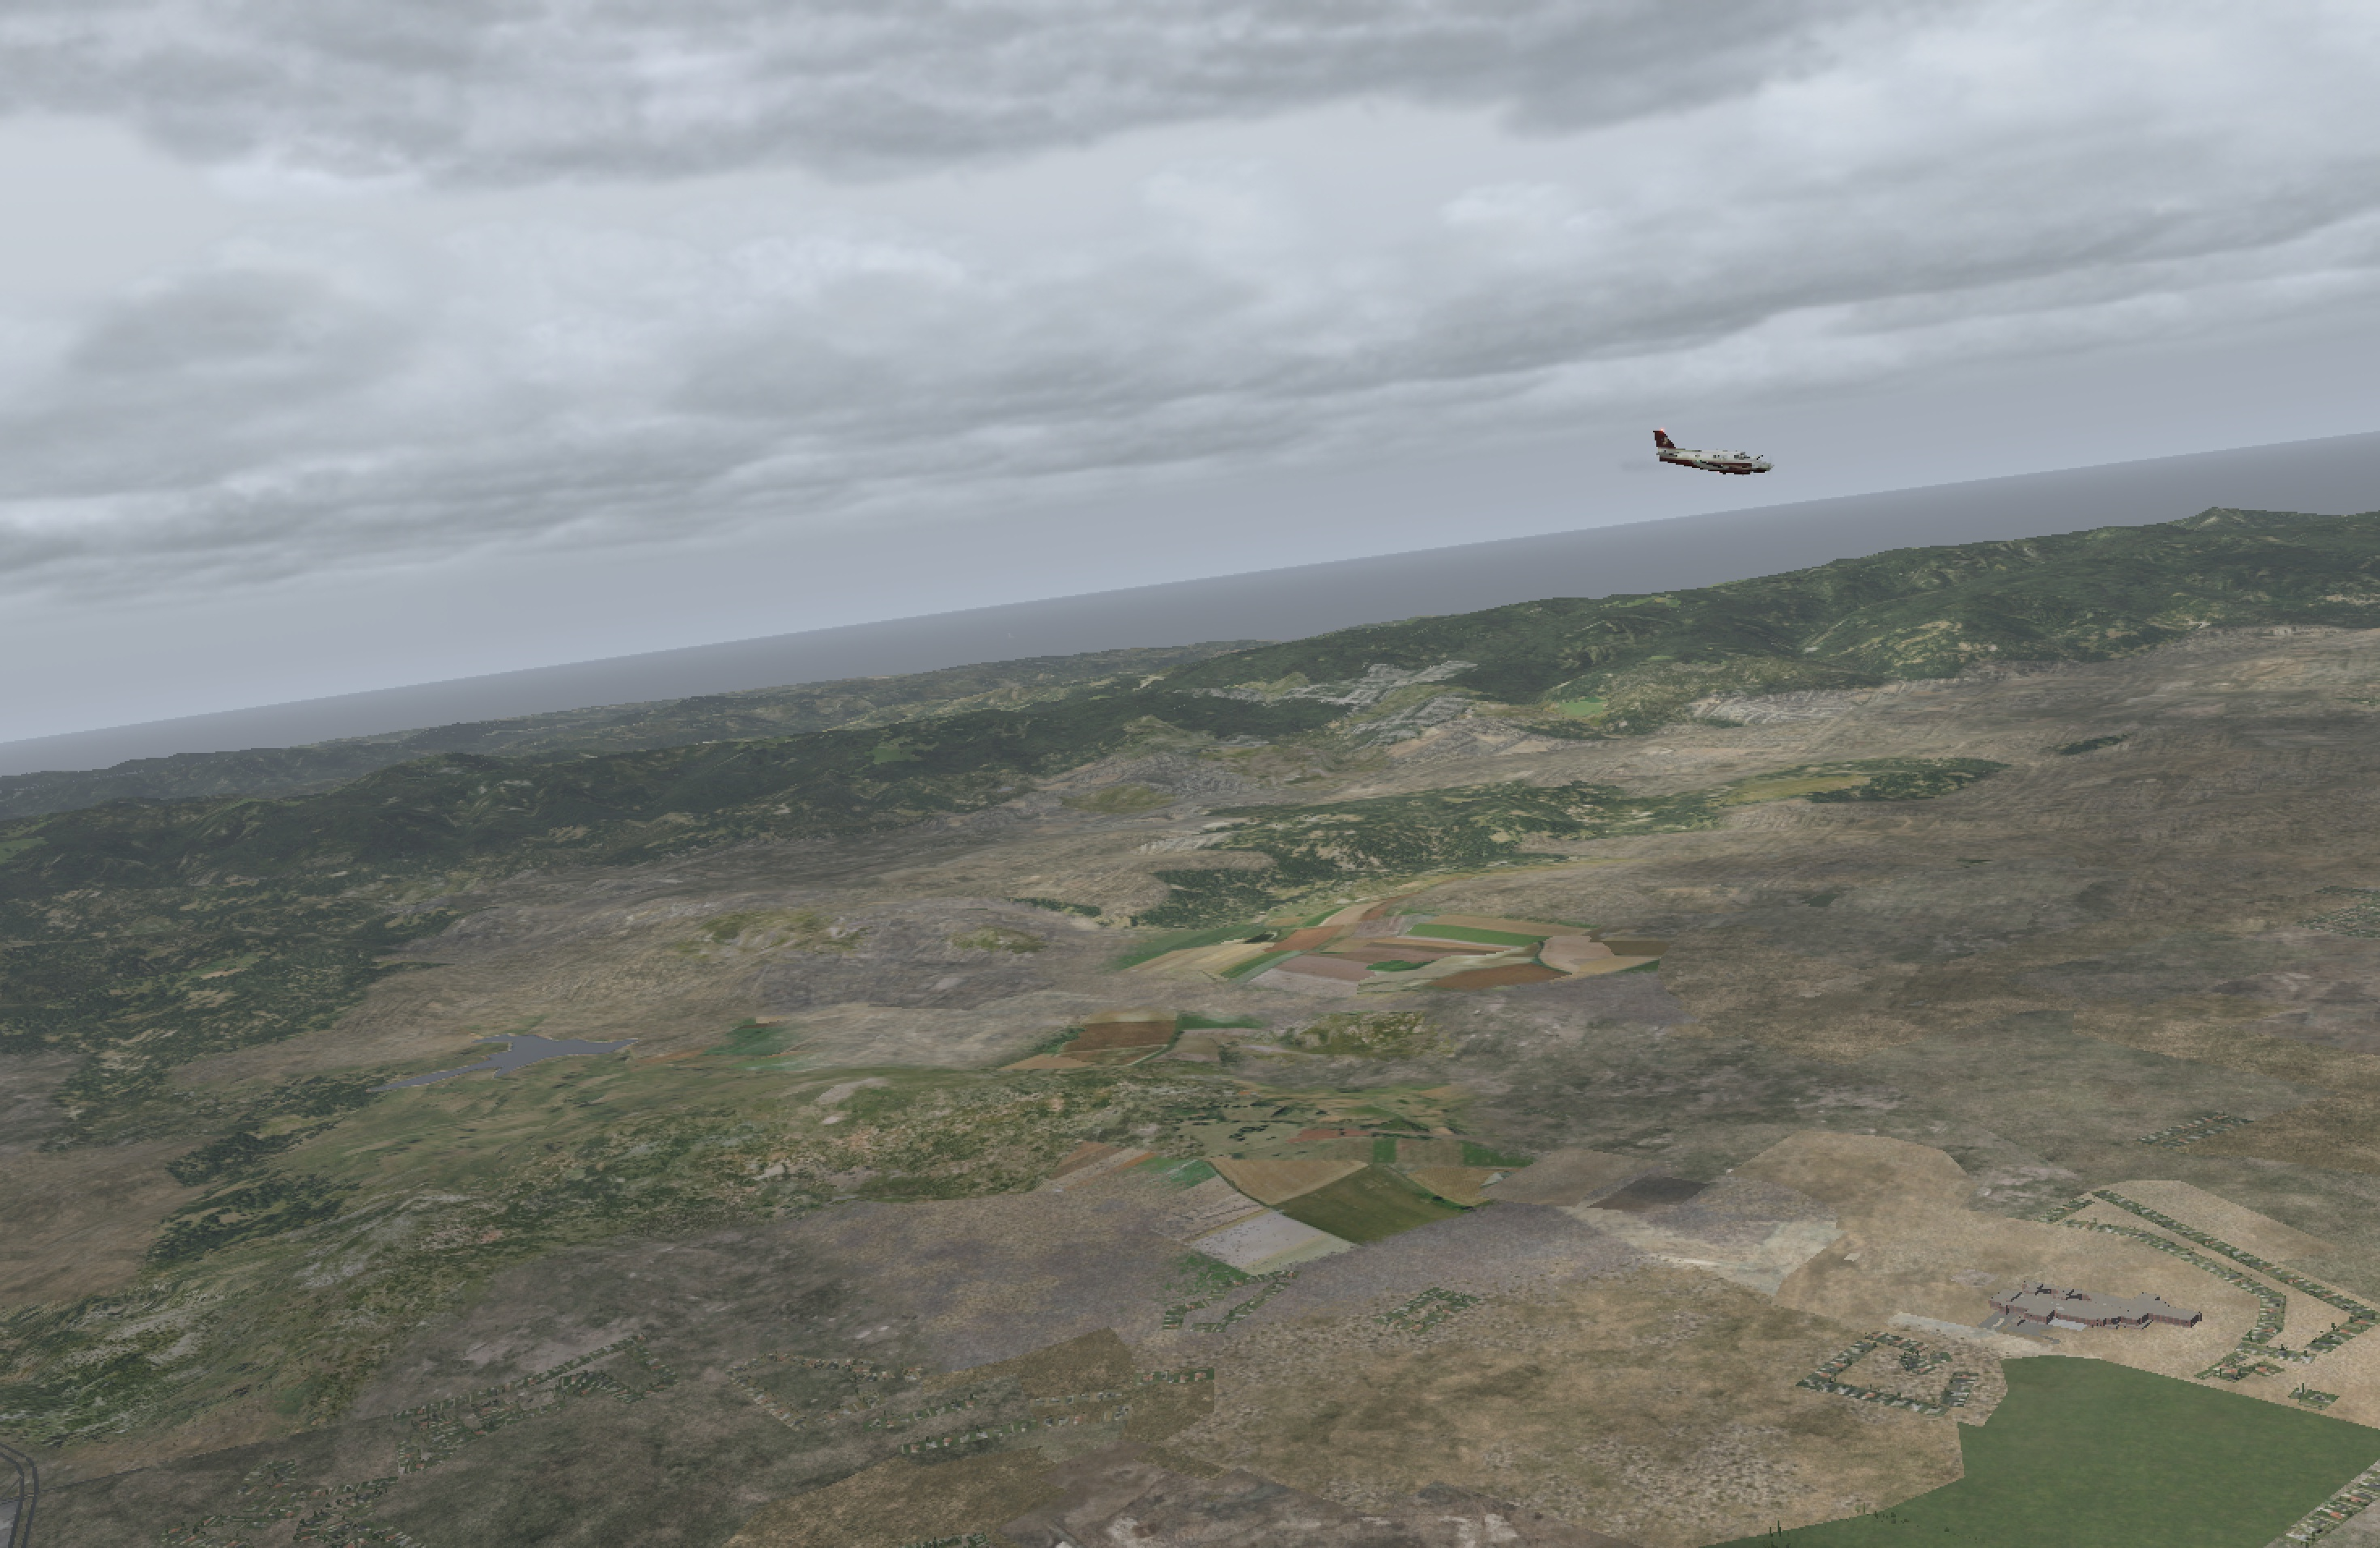aircraft: (1644, 437, 1820, 503)
